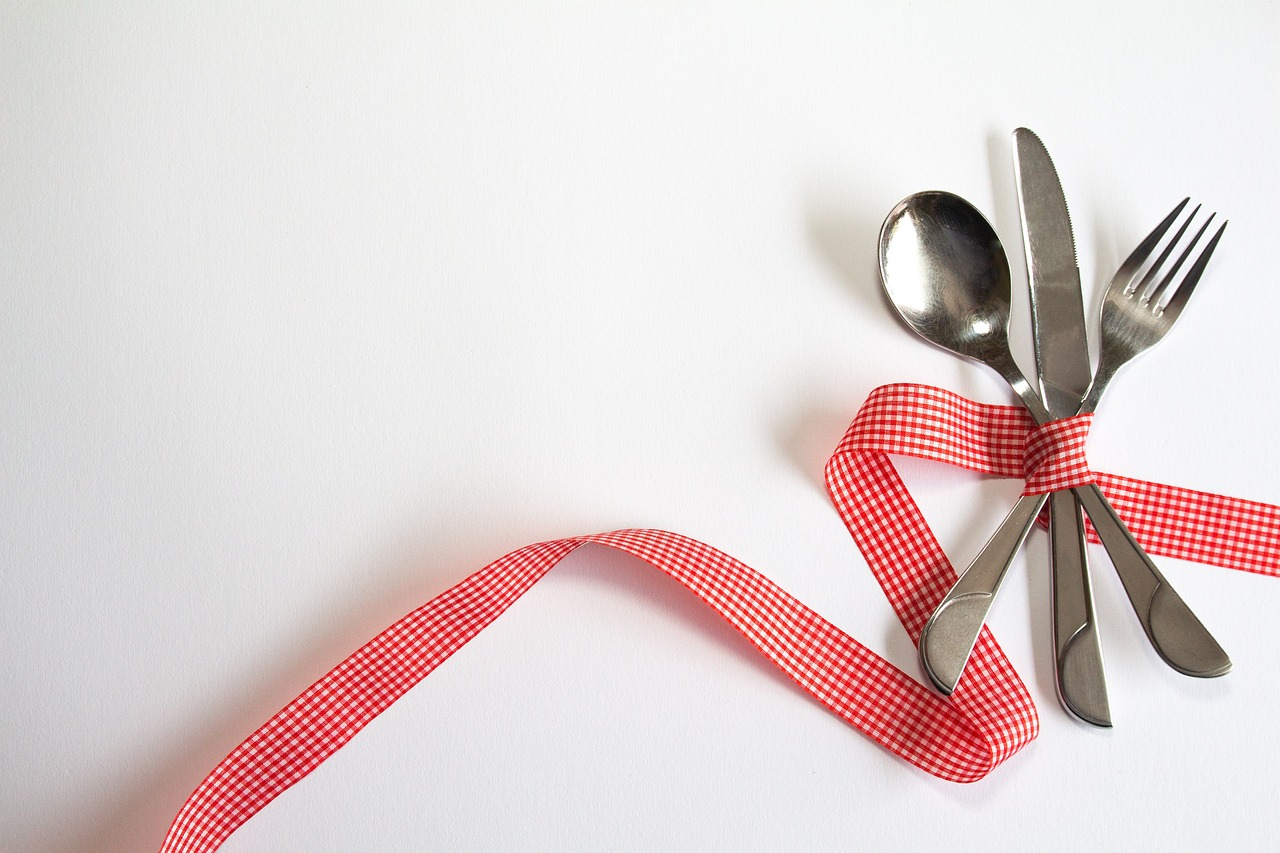knife: (1014, 119, 1119, 732)
